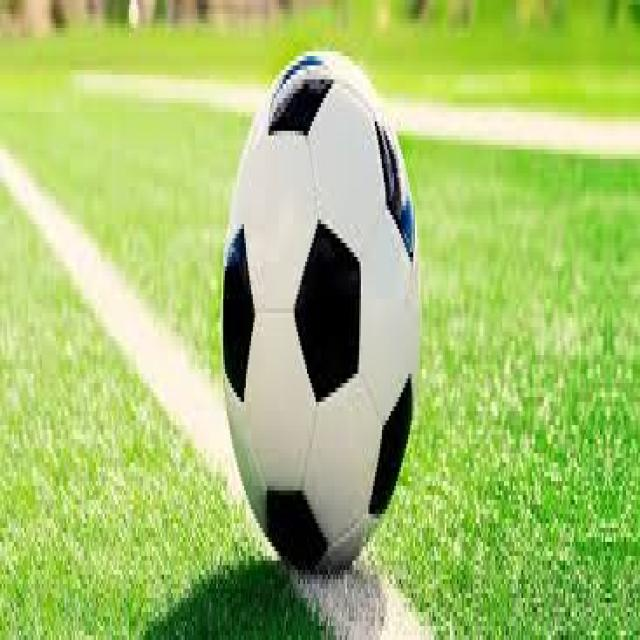ball: (220, 50, 422, 580)
